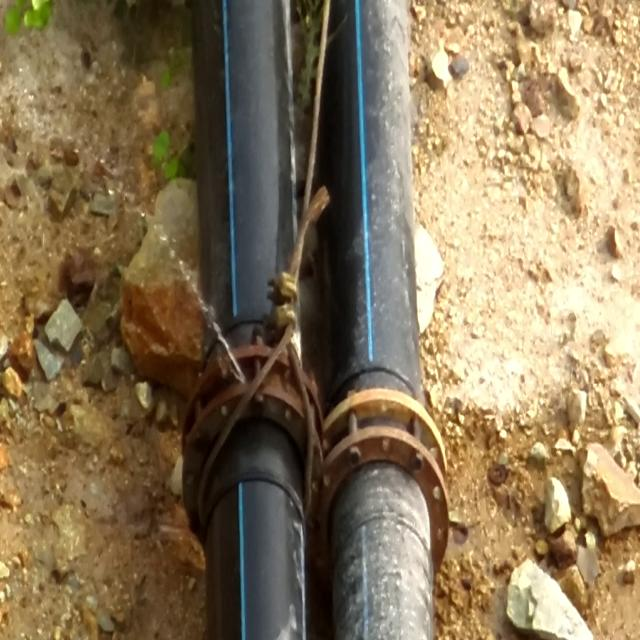leak: (68, 150, 250, 391)
